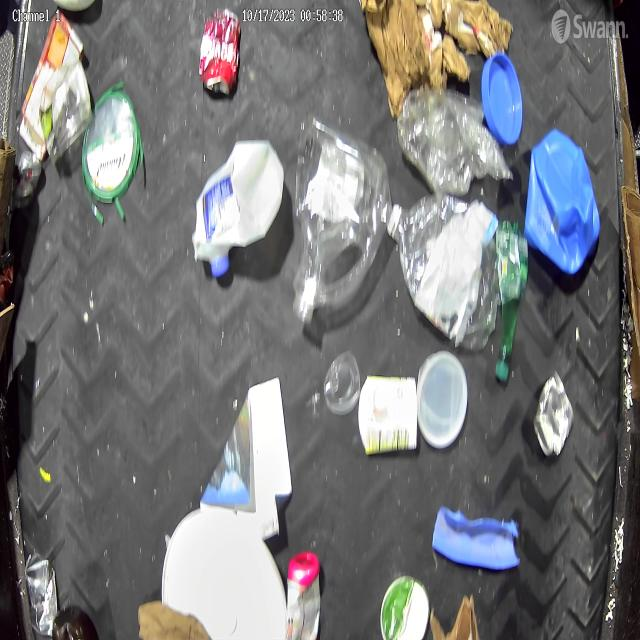can: (533, 369, 575, 462), (201, 9, 243, 95), (25, 553, 59, 636), (14, 151, 41, 210)
milk_jug: (194, 138, 284, 276)
non_white_jug: (526, 127, 604, 278)
plastic_bottle: (293, 130, 393, 327), (386, 194, 500, 354)
